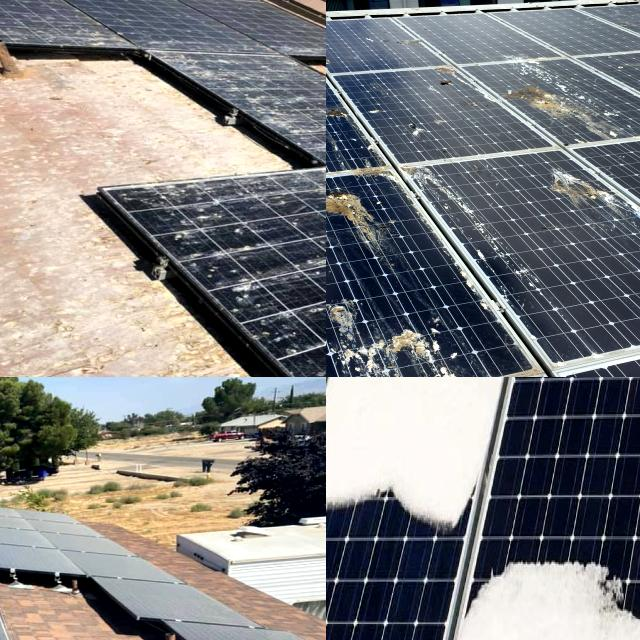bird: (152, 182, 258, 292), (516, 56, 638, 150), (326, 313, 488, 377), (191, 60, 326, 132), (532, 152, 633, 228), (326, 182, 398, 264), (326, 80, 367, 183), (326, 96, 354, 170), (283, 186, 326, 233), (326, 278, 353, 298)
dust: (0, 514, 135, 567), (124, 580, 200, 626), (0, 591, 33, 640), (0, 506, 28, 560), (0, 565, 49, 595)
panel: (580, 513, 640, 640), (388, 458, 467, 554), (528, 524, 590, 624), (536, 377, 628, 427), (326, 459, 389, 520), (357, 377, 442, 422), (467, 560, 541, 610), (362, 377, 490, 403), (436, 377, 518, 411), (326, 377, 351, 434)
